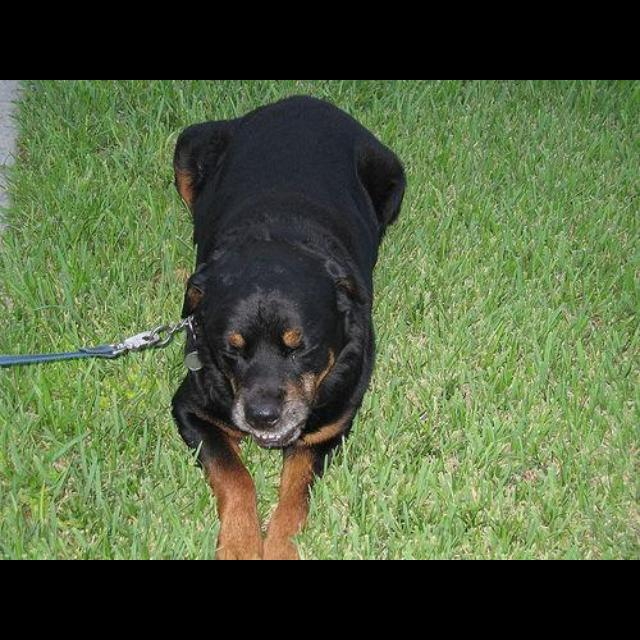rottweiler: (169, 95, 408, 560)
